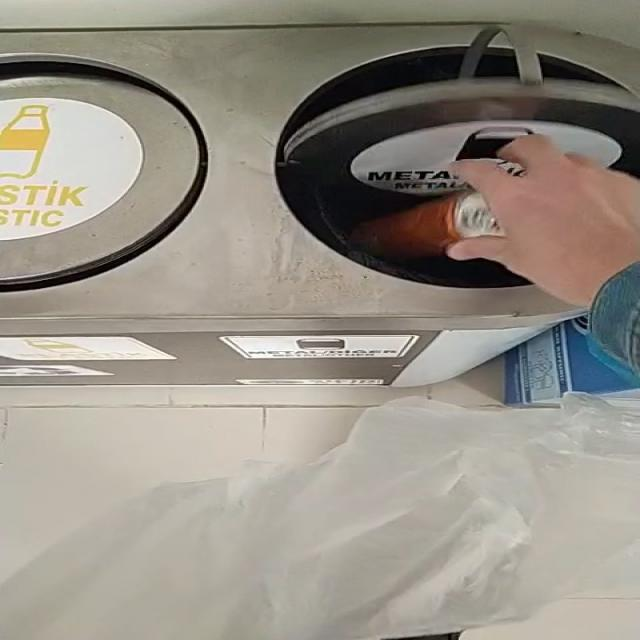bin: (0, 23, 637, 388)
metal: (349, 192, 505, 258)
